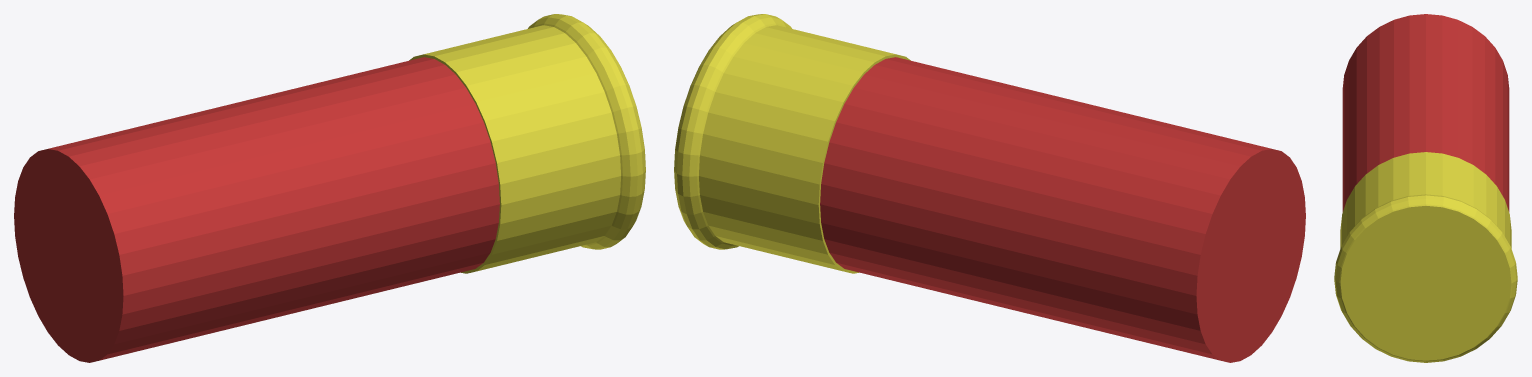
The model's file is ShotGunShell.fbx.
3 renders of one model, left to right at view 1: azimuth 30°, elevation 25°; view 2: azimuth 150°, elevation 25°; view 3: azimuth 270°, elevation 25°, orthographic. The views are drawn at different scales.
Parts seen in each view (by area): view 1: Cylinder; view 2: Cylinder; view 3: Cylinder.
Part boxes in pixels (<box>): Cylinder: <box>14,14,645,362</box>; Cylinder: <box>674,14,1305,362</box>; Cylinder: <box>1334,14,1517,362</box>.
Size of the model in its own units: 413 by 166 by 166.
